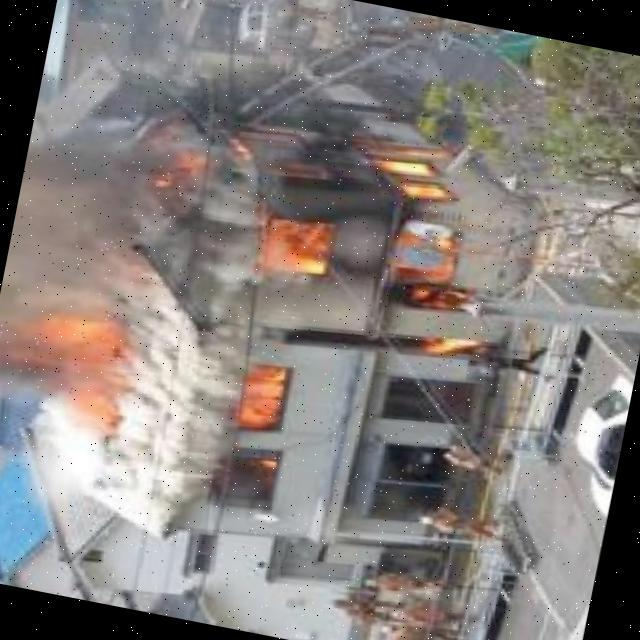fire: (141, 59, 542, 401), (0, 284, 152, 454), (220, 363, 300, 477)
